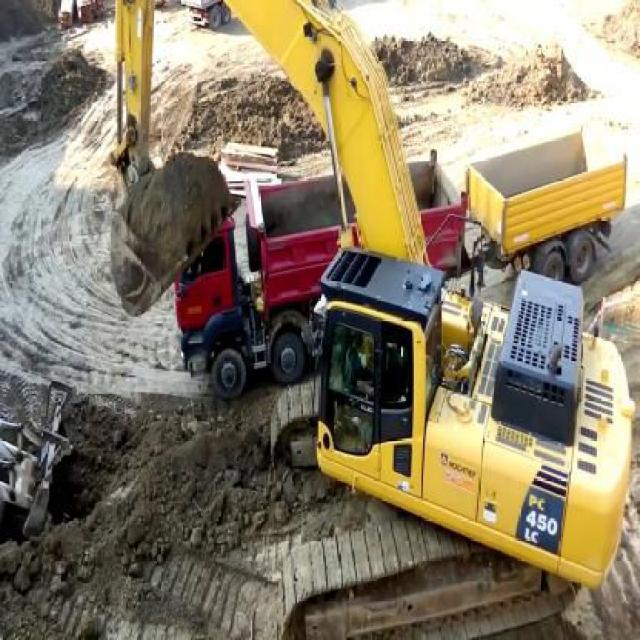dump_truck: (171, 145, 469, 400)
excavator: (104, 1, 638, 639)
